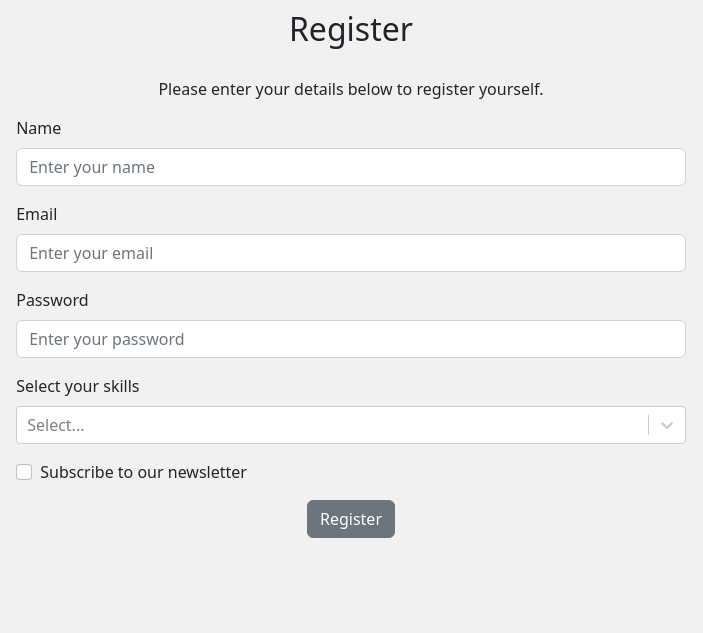
it: Register component › Should error message when all the fields are not entered
The image size is (703, 633).
Click the button "Register" at (351, 519), box [307, 500, 395, 538]
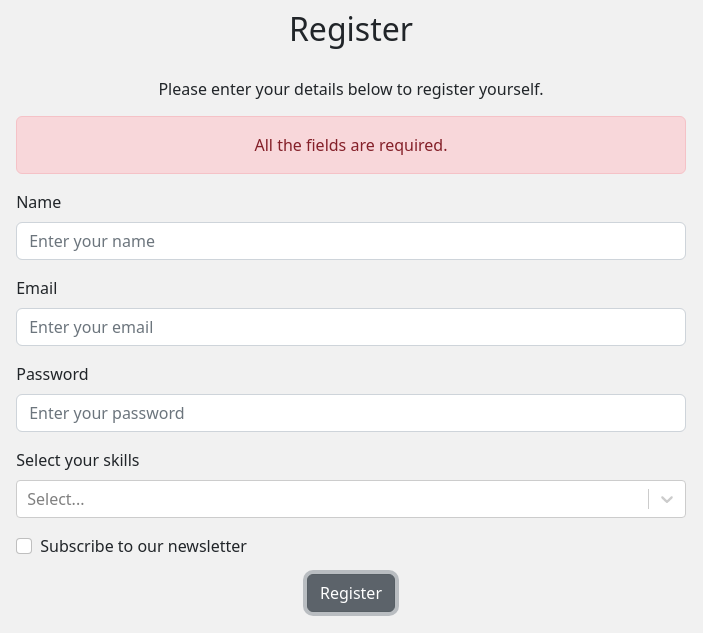
Result: the message "All the fields are required." is shown at [16, 116, 686, 174]
